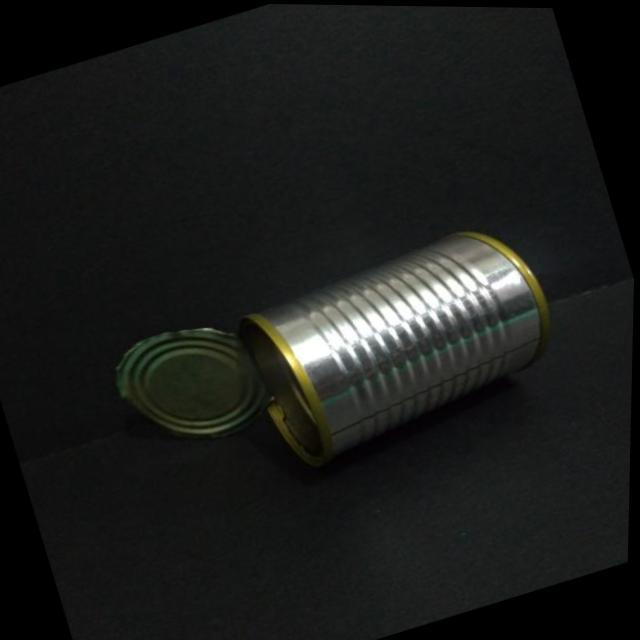metal: (117, 232, 549, 466)
